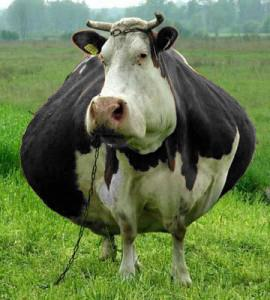muzzles: (82, 95, 144, 151)
